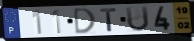1: (32, 9, 44, 36), (52, 9, 63, 34)
4: (153, 5, 172, 32)
D: (73, 7, 97, 36)
T: (99, 7, 118, 32)
U: (125, 5, 151, 33)
